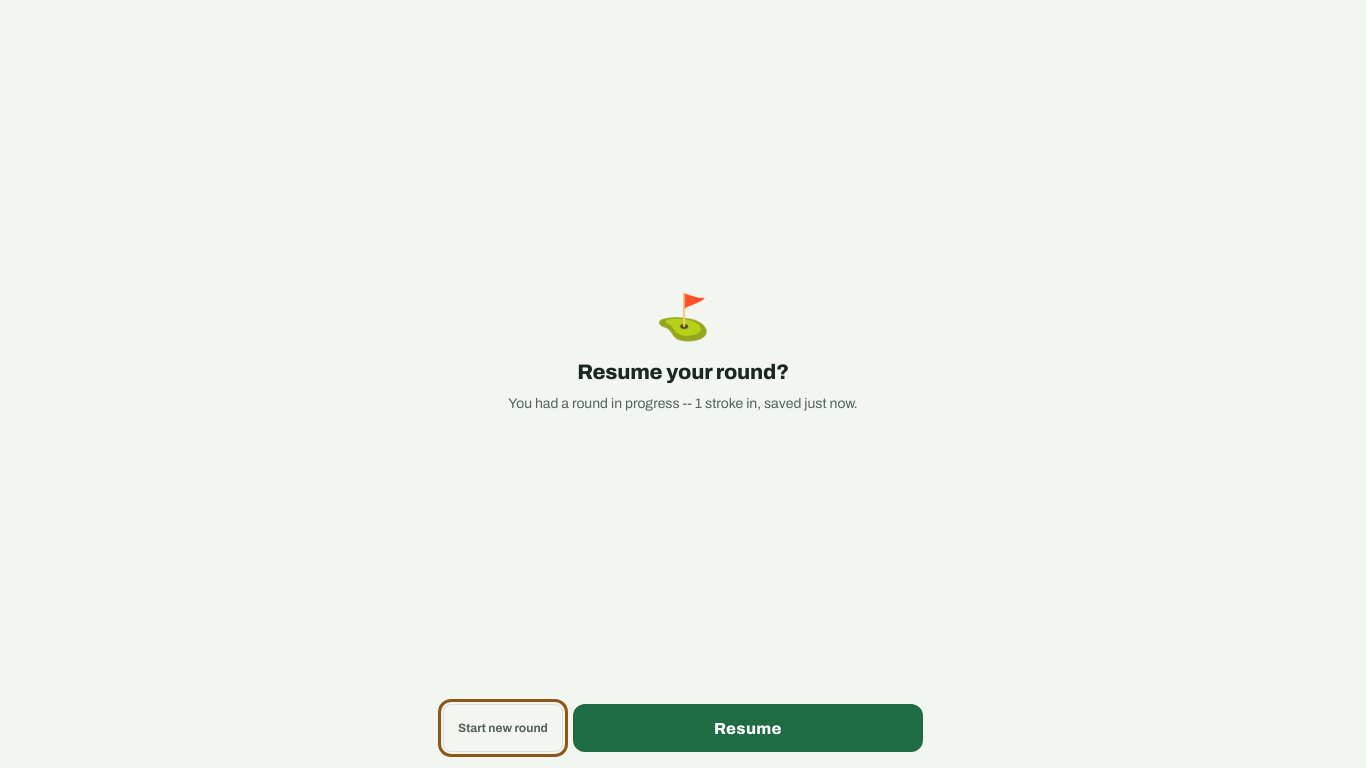
App integration: resume from persisted state › discarding the prompt starts a fresh round and does not resurface the prompt on a later check within the same session
Expected: the heading "Resume your round?" is shown, left=577, top=360, right=789, bottom=382
Click the button "Start new round" at (503, 728), box left=443, top=704, right=563, bottom=752
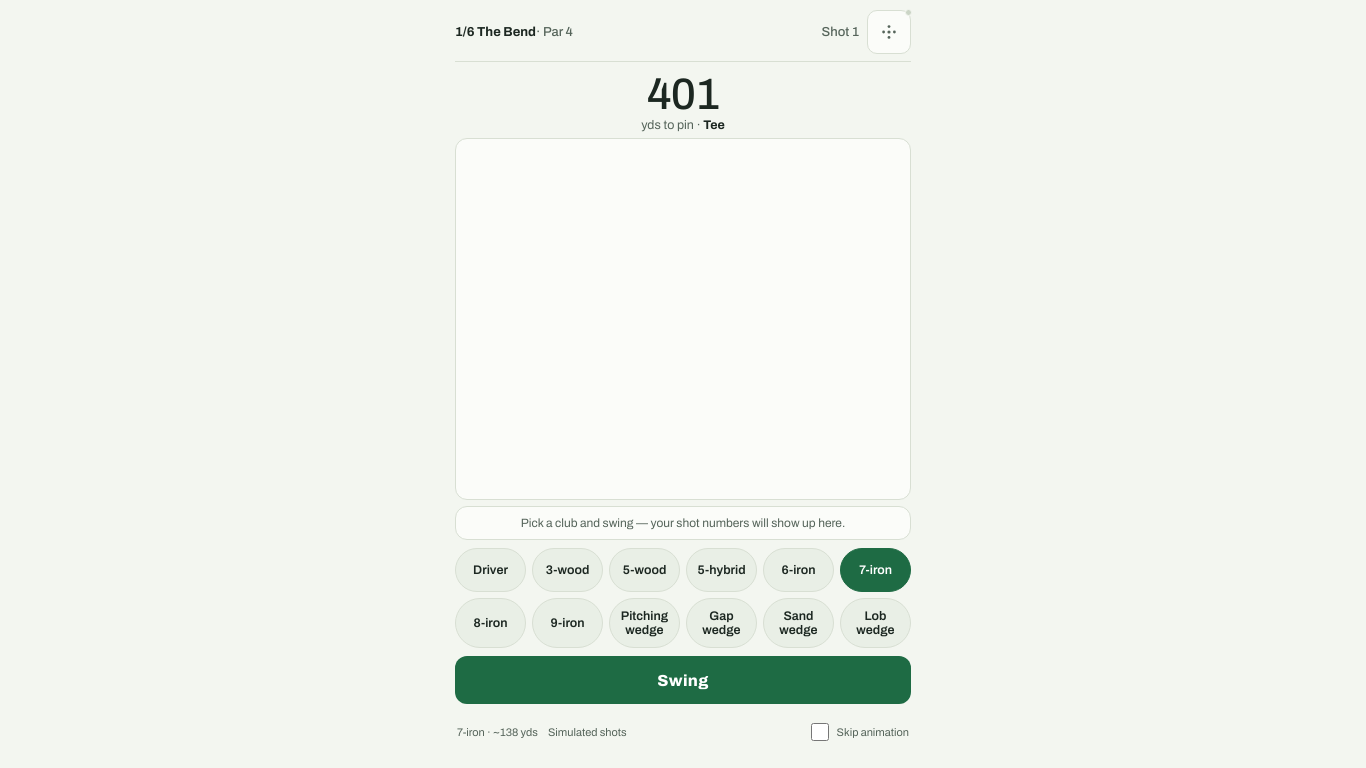
Expected: the text with class "topbar-dim" reads "Shot 1", left=822, top=25, right=859, bottom=39
Result: the heading "Resume your round" is gone
